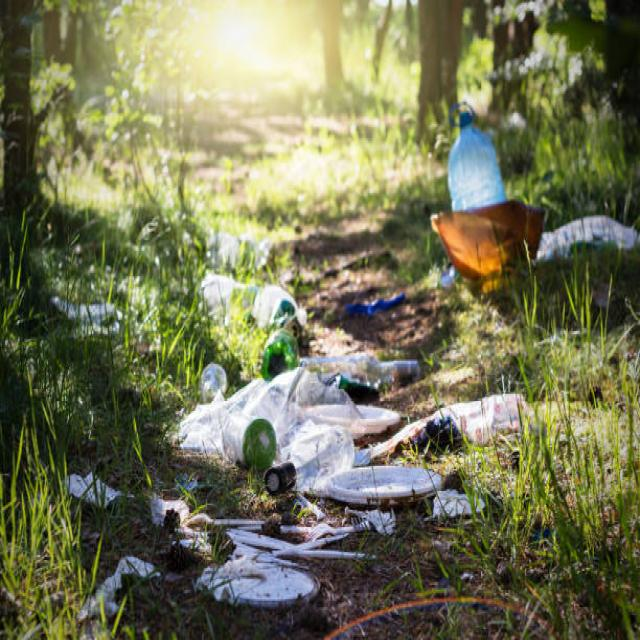cardboard: (436, 207, 540, 298)
plastic: (216, 285, 378, 593), (442, 96, 503, 196)
